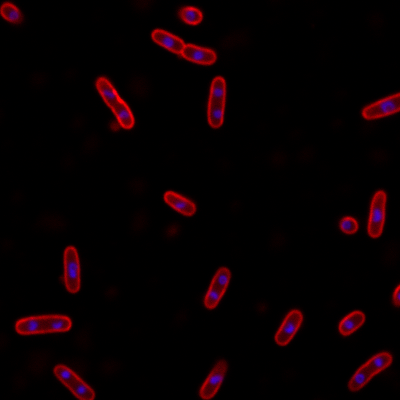CAM: (150, 28, 217, 66), (96, 76, 135, 130), (347, 350, 392, 391), (53, 364, 96, 400), (272, 309, 305, 348), (14, 314, 72, 336), (204, 267, 231, 310), (206, 75, 227, 130), (61, 245, 82, 295), (367, 190, 387, 239), (336, 308, 367, 338), (163, 190, 197, 217)
Oblique: (198, 359, 228, 400), (178, 6, 202, 26), (336, 216, 359, 235), (1, 2, 20, 23)
